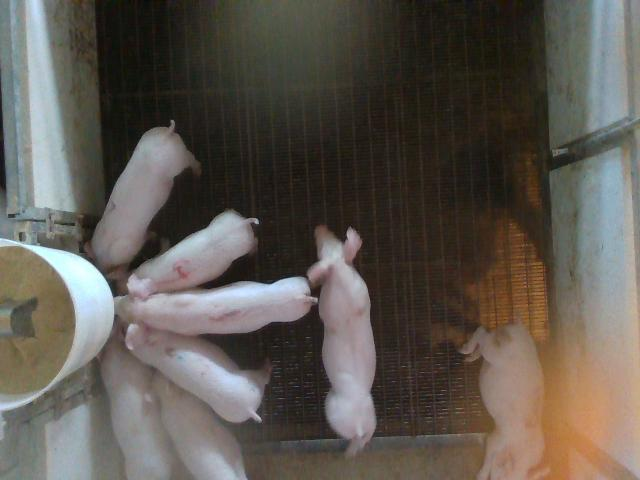pig-1: (115, 275, 318, 349)
pig-3: (460, 321, 544, 478)
pig-4: (134, 209, 259, 292)
